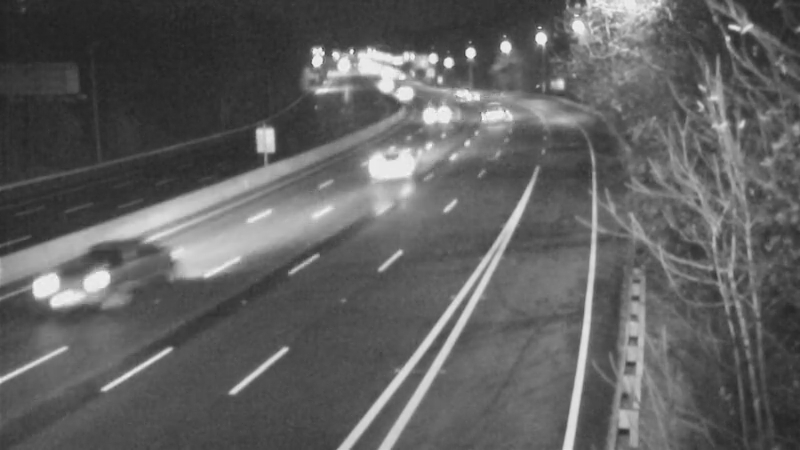vehicle: (351, 122, 431, 202), (39, 241, 119, 321), (383, 69, 433, 119), (435, 69, 485, 119), (446, 72, 496, 122), (468, 83, 518, 133), (415, 86, 465, 136)
